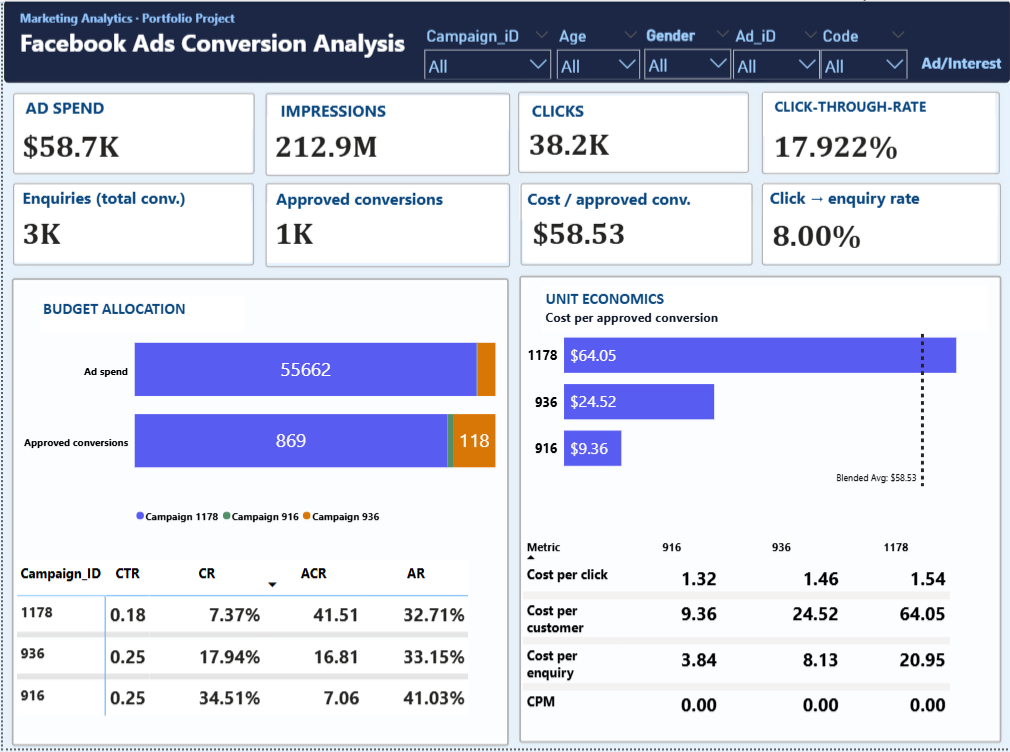

The page's visual inventory and layout, read from the dashboard file:
{"tool":"powerbi","page":{"name":"Facebook Ads Conversion Analysis","canvas":[1350,1000],"ordinal":0},"visuals":[{"type":"textbox","box":[1.7,-1.7,1348.3,110],"z":0},{"type":"cardVisual","title":"AD SPEND","fields":{"Data":["Sum(KAG_conversion_data.Clicks)"]},"box":[680,133.9,337.5,111.4],"z":0,"group":"g4"},{"type":"cardVisual","title":"AD SPEND","fields":{"Data":["Sum(KAG_conversion_data.Impressions)"]},"box":[340,134.3,354.4,113],"z":0,"group":"g7"},{"type":"cardVisual","title":"AD SPEND","fields":{"Data":["_measures.CTR"]},"box":[1008.3,134.3,340,115],"z":0,"group":"g2"},{"type":"cardVisual","title":"AD SPEND","fields":{"Data":["Sum(KAG_conversion_data.Spent)"]},"box":[1.7,134.6,350,112.1],"z":0,"group":"g8"},{"type":"cardVisual","title":"AD SPEND","fields":{"Data":["Sum(KAG_conversion_data.Total_Conversion)"]},"box":[1.7,250.8,350,117.5],"z":0,"group":"g9"},{"type":"cardVisual","title":"AD SPEND","fields":{"Data":["Sum(KAG_conversion_data.Approved_Conversion)"]},"box":[340,252.2,353.3,116.1],"z":0,"group":"g6"},{"type":"cardVisual","title":"AD SPEND","fields":{"Data":["_Measures.CPACo"]},"box":[680,252.4,342.4,116],"z":0,"group":"g3"},{"type":"cardVisual","title":"AD SPEND","fields":{"Data":["_Measures.CR"]},"box":[1002,255,348.3,113.3],"z":0,"group":"g1"},{"type":"shape","box":[691.9,366.7,646.5,625.9],"z":0,"group":"g5"},{"type":"shape","box":[11.7,370,666.7,626],"z":0,"group":"g10"},{"type":"slicer","fields":{"Values":["KAG_conversion_data.gender"]},"box":[849.1,28.9,136.7,75],"z":1000},{"type":"shape","box":[1015.9,121,319.2,110],"z":1000,"group":"g2"},{"type":"textbox","box":[14.2,121.7,321.9,48.9],"z":1000,"group":"g8"},{"type":"textbox","box":[355.6,124.8,323.3,46.2],"z":1000,"group":"g7"},{"type":"textbox","box":[691.4,125.3,306.5,47.1],"z":1000,"group":"g4"},{"type":"textbox","box":[1016.3,243,315.8,48],"z":1000,"group":"g1"},{"type":"textbox","box":[15.3,243.7,317.6,49.4],"z":1000,"group":"g9"},{"type":"textbox","box":[354.4,244.6,321.1,46.9],"z":1000,"group":"g6"},{"type":"textbox","box":[691.3,245.3,311.3,48],"z":1000,"group":"g3"},{"type":"hundredPercentStackedBarChart","title":"01 BUDGET ALLOCATION","fields":{"Category":["CampaignMetrics.Metric"],"Series":["CampaignMetrics.Campaign"],"Y":["Sum(CampaignMetrics.Value)"]},"box":[21.6,394.1,643.5,313.7],"z":1000,"group":"g10"},{"type":"clusteredBarChart","fields":{"Category":["KAG_conversion_data.xyz_campaign_id"],"Y":["_measures.CPACo"]},"box":[683.3,411.8,666.7,242.2],"z":1000,"group":"g5"},{"type":"slicer","fields":{"Values":["KAG_conversion_data.ad_id"]},"box":[969.1,28.9,136.7,75],"z":2000},{"type":"shape","box":[689.8,121,309.8,108.6],"z":2000,"group":"g4"},{"type":"shape","box":[12.6,121.7,323.7,108.6],"z":2000,"group":"g8"},{"type":"shape","box":[351.2,121.7,327.8,111],"z":2000,"group":"g7"},{"type":"textbox","box":[1018.5,122.1,311.1,58.3],"z":2000,"group":"g2"},{"type":"shape","box":[1016.3,243,320.5,110],"z":2000,"group":"g1"},{"type":"shape","box":[13.4,243.3,323.1,110.3],"z":2000,"group":"g9"},{"type":"shape","box":[351.1,243.3,328.3,112.5],"z":2000,"group":"g6"},{"type":"shape","box":[693.6,243.3,311.3,110],"z":2000,"group":"g3"},{"type":"textbox","box":[721.3,379.3,597.2,63.4],"z":2000,"group":"g5"},{"type":"textbox","box":[48.1,394.1,275.5,51.6],"z":2000,"group":"g10"},{"type":"slicer","fields":{"Values":["KAG_conversion_data.age"]},"box":[732.4,28.9,131.7,75],"z":3000},{"type":"pivotTable","fields":{"Rows":["MetricLabel.MetricLabel"],"Values":["_Measures.Selected Metric"],"Columns":["KAG_conversion_data.xyz_campaign_id"]},"box":[692.5,712,646.5,281.4],"z":3000,"group":"g5"},{"type":"pivotTable","fields":{"Values":["_Measures.CTR","_Measures.CR","_Measures.ACR","_Measures.AR"],"Rows":["KAG_conversion_data.xyz_campaign_id"]},"box":[13.5,739.8,664.8,256.2],"z":3000,"group":"g10"},{"type":"slicer","fields":{"Values":["KAG_conversion_data.xyz_campaign_id"]},"box":[554.1,28.9,190,75],"z":4000},{"type":"slicer","fields":{"Values":["KAG_conversion_data.interest"]},"box":[1085.8,28.9,136.7,75],"z":5000},{"type":"group","id":"g1","title":"Group 1","box":[1002,243,348.3,126.7],"z":7000},{"type":"group","id":"g2","title":"Group 3","box":[1008.3,121,340,128.3],"z":8000},{"type":"group","id":"g3","title":"Group 2","box":[680,243.3,341.7,125],"z":9000},{"type":"group","id":"g4","title":"Group 4","box":[680,121,336.7,125],"z":10000},{"type":"group","id":"g5","title":"Group 5","box":[683.3,366.7,666.7,626.7],"z":11000},{"type":"group","id":"g6","title":"Group 6","box":[340,243.3,353.3,125],"z":12000},{"type":"group","id":"g7","title":"Group 7","box":[340,121.7,355,125],"z":13000},{"type":"group","id":"g8","title":"Group 8","box":[1.7,121.7,350,125],"z":14000},{"type":"group","id":"g9","title":"Group 9","box":[1.7,243.3,350,125],"z":15000},{"type":"group","id":"g10","title":"Group 10","box":[11.7,370,666.7,626.7],"z":16000},{"type":"actionButton","box":[1221.7,53.3,126.7,55],"z":16001}]}

Visuals, with their boxes in screenshot pixels (x1, y1, x2, y2), scaled from the page's 1350x1000 canvas onto the 1010x752 screenshot:
textbox: {"left": 1, "top": 0, "right": 1009, "bottom": 81}
"AD SPEND" cardVisual: {"left": 509, "top": 101, "right": 761, "bottom": 184}
"AD SPEND" cardVisual: {"left": 254, "top": 101, "right": 520, "bottom": 186}
"AD SPEND" cardVisual: {"left": 754, "top": 101, "right": 1009, "bottom": 187}
"AD SPEND" cardVisual: {"left": 1, "top": 101, "right": 263, "bottom": 186}
"AD SPEND" cardVisual: {"left": 1, "top": 189, "right": 263, "bottom": 277}
"AD SPEND" cardVisual: {"left": 254, "top": 190, "right": 519, "bottom": 277}
"AD SPEND" cardVisual: {"left": 509, "top": 190, "right": 765, "bottom": 277}
"AD SPEND" cardVisual: {"left": 750, "top": 192, "right": 1009, "bottom": 277}
shape: {"left": 518, "top": 276, "right": 1001, "bottom": 746}
shape: {"left": 9, "top": 278, "right": 508, "bottom": 749}
slicer - KAG_conversion_data.gender: {"left": 635, "top": 22, "right": 738, "bottom": 78}
shape: {"left": 760, "top": 91, "right": 999, "bottom": 174}
textbox: {"left": 11, "top": 92, "right": 251, "bottom": 128}
textbox: {"left": 266, "top": 94, "right": 508, "bottom": 129}
textbox: {"left": 517, "top": 94, "right": 747, "bottom": 130}
textbox: {"left": 760, "top": 183, "right": 997, "bottom": 219}
textbox: {"left": 11, "top": 183, "right": 249, "bottom": 220}
textbox: {"left": 265, "top": 184, "right": 505, "bottom": 219}
textbox: {"left": 517, "top": 184, "right": 750, "bottom": 221}
"01 BUDGET ALLOCATION" hundredPercentStackedBarChart: {"left": 16, "top": 296, "right": 498, "bottom": 532}
clusteredBarChart - KAG_conversion_data.xyz_campaign_id x _measures.CPACo: {"left": 511, "top": 310, "right": 1009, "bottom": 492}
slicer - KAG_conversion_data.ad_id: {"left": 725, "top": 22, "right": 827, "bottom": 78}
shape: {"left": 516, "top": 91, "right": 748, "bottom": 173}
shape: {"left": 9, "top": 92, "right": 252, "bottom": 173}
shape: {"left": 263, "top": 92, "right": 508, "bottom": 175}
textbox: {"left": 762, "top": 92, "right": 995, "bottom": 136}
shape: {"left": 760, "top": 183, "right": 1000, "bottom": 265}
shape: {"left": 10, "top": 183, "right": 252, "bottom": 266}
shape: {"left": 263, "top": 183, "right": 508, "bottom": 268}
shape: {"left": 519, "top": 183, "right": 752, "bottom": 266}
textbox: {"left": 540, "top": 285, "right": 986, "bottom": 333}
textbox: {"left": 36, "top": 296, "right": 242, "bottom": 335}
slicer - KAG_conversion_data.age: {"left": 548, "top": 22, "right": 646, "bottom": 78}
pivotTable - MetricLabel.MetricLabel x _Measures.Selected Metric: {"left": 518, "top": 535, "right": 1002, "bottom": 747}
pivotTable - _Measures.CTR x _Measures.CR: {"left": 10, "top": 556, "right": 507, "bottom": 749}
slicer - KAG_conversion_data.xyz_campaign_id: {"left": 415, "top": 22, "right": 557, "bottom": 78}
slicer - KAG_conversion_data.interest: {"left": 812, "top": 22, "right": 915, "bottom": 78}
"Group 1" group: {"left": 750, "top": 183, "right": 1009, "bottom": 278}
"Group 3" group: {"left": 754, "top": 91, "right": 1009, "bottom": 187}
"Group 2" group: {"left": 509, "top": 183, "right": 764, "bottom": 277}
"Group 4" group: {"left": 509, "top": 91, "right": 761, "bottom": 185}
"Group 5" group: {"left": 511, "top": 276, "right": 1009, "bottom": 747}
"Group 6" group: {"left": 254, "top": 183, "right": 519, "bottom": 277}
"Group 7" group: {"left": 254, "top": 92, "right": 520, "bottom": 186}
"Group 8" group: {"left": 1, "top": 92, "right": 263, "bottom": 186}
"Group 9" group: {"left": 1, "top": 183, "right": 263, "bottom": 277}
"Group 10" group: {"left": 9, "top": 278, "right": 508, "bottom": 750}
actionButton: {"left": 914, "top": 40, "right": 1009, "bottom": 81}
